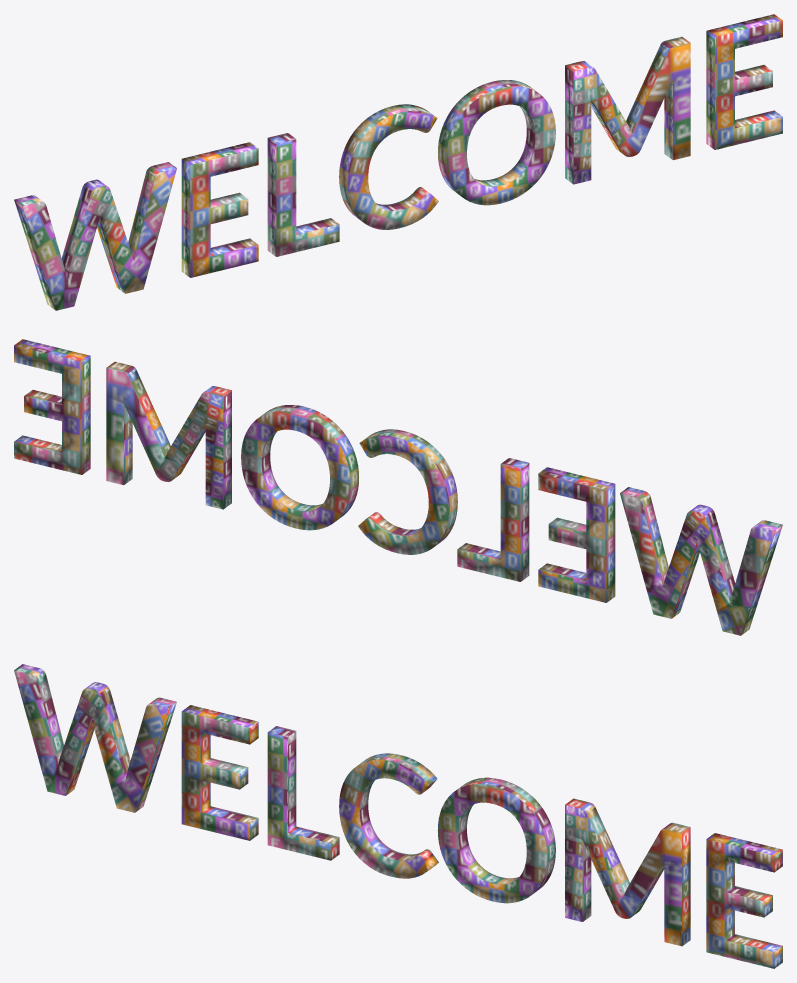
File: welcome.dae
3 views of the same model, one above another, from view 1: azimuth 30°, elevation 25°; view 2: azimuth 150°, elevation 25°; view 3: azimuth 330°, elevation 25° (orthographic).
Parts seen in each view (by area): view 1: text1-0; view 2: text1-0; view 3: text1-0.
Part boxes in pixels (x1,y1,x2,y2): text1-0: (14,14,782,310); text1-0: (14,339,782,635); text1-0: (14,664,782,968).
Size of the model in its own units: 10.18 by 1.48 by 0.2.
